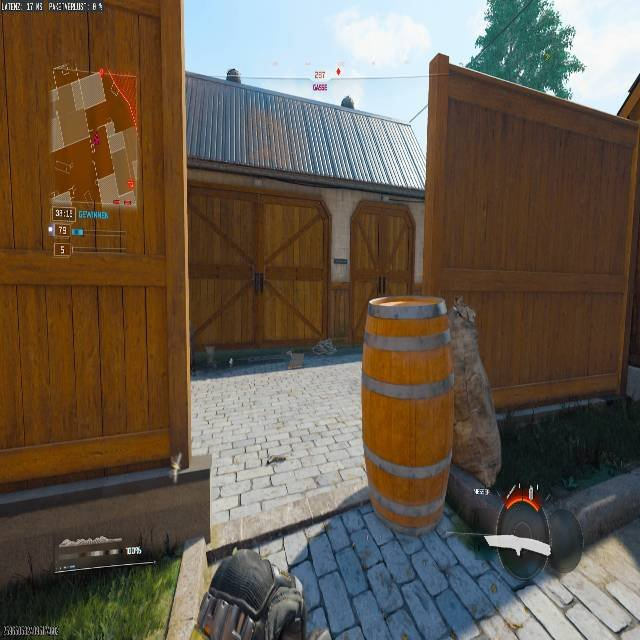head: (209, 550, 276, 617)
